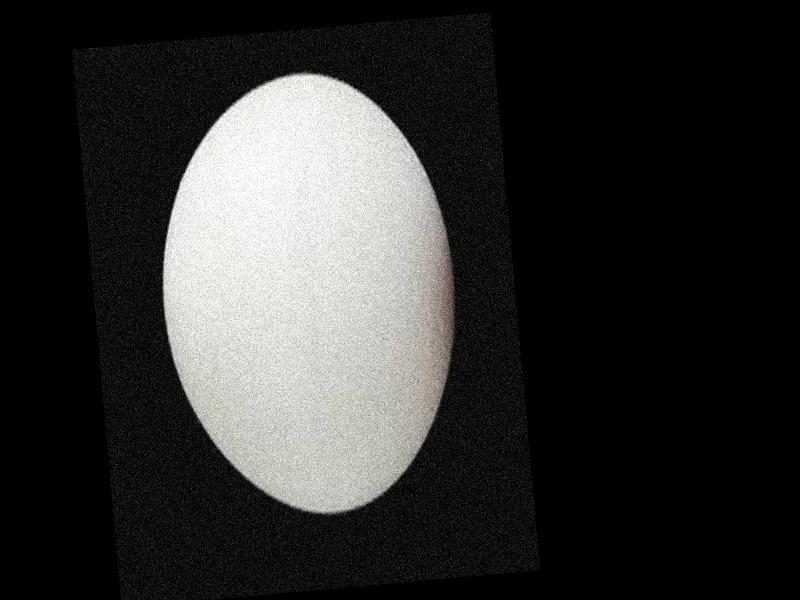Eggs: (145, 59, 474, 524)
